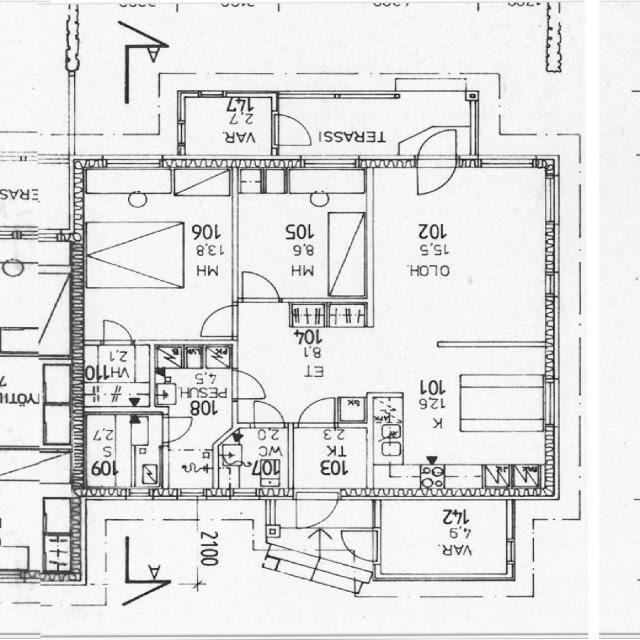door: (0, 356, 78, 450), (413, 125, 458, 196), (294, 488, 341, 528), (236, 268, 283, 304), (339, 527, 381, 566), (197, 302, 240, 340), (226, 367, 270, 403), (270, 111, 314, 147), (44, 533, 80, 575), (296, 395, 338, 428), (44, 498, 78, 534), (98, 316, 136, 346), (160, 414, 195, 446), (249, 399, 286, 428)
window: (539, 173, 563, 228), (538, 376, 562, 430), (100, 154, 163, 170), (295, 156, 361, 171), (478, 155, 536, 170), (541, 267, 562, 301), (176, 488, 208, 502), (175, 119, 189, 146), (198, 88, 226, 98), (479, 593, 508, 602), (44, 601, 72, 609)
zone: (367, 161, 556, 349), (392, 345, 552, 496), (236, 166, 365, 302), (375, 501, 515, 582), (0, 235, 70, 355), (0, 355, 77, 450), (81, 412, 163, 496), (151, 344, 234, 418), (290, 424, 372, 496), (178, 95, 274, 156), (0, 158, 73, 234), (78, 343, 154, 411), (220, 426, 291, 498), (0, 480, 47, 573), (288, 303, 366, 328), (294, 491, 342, 529), (270, 111, 316, 148), (336, 396, 366, 424)
